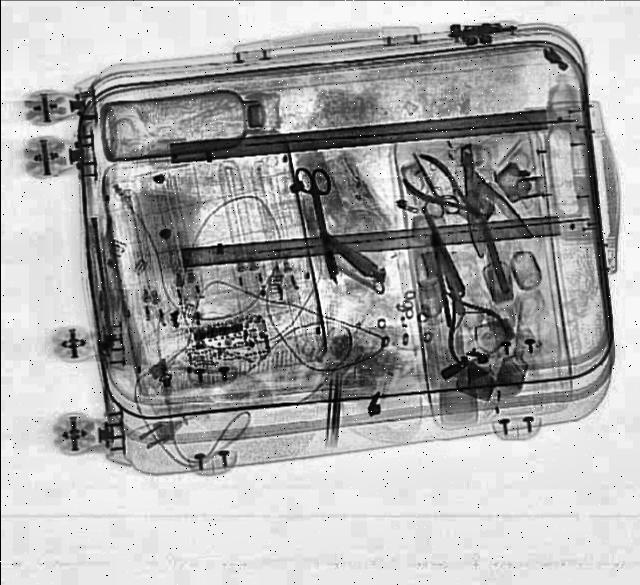Pliers: (394, 151, 496, 231)
Scissors: (293, 166, 351, 282)
